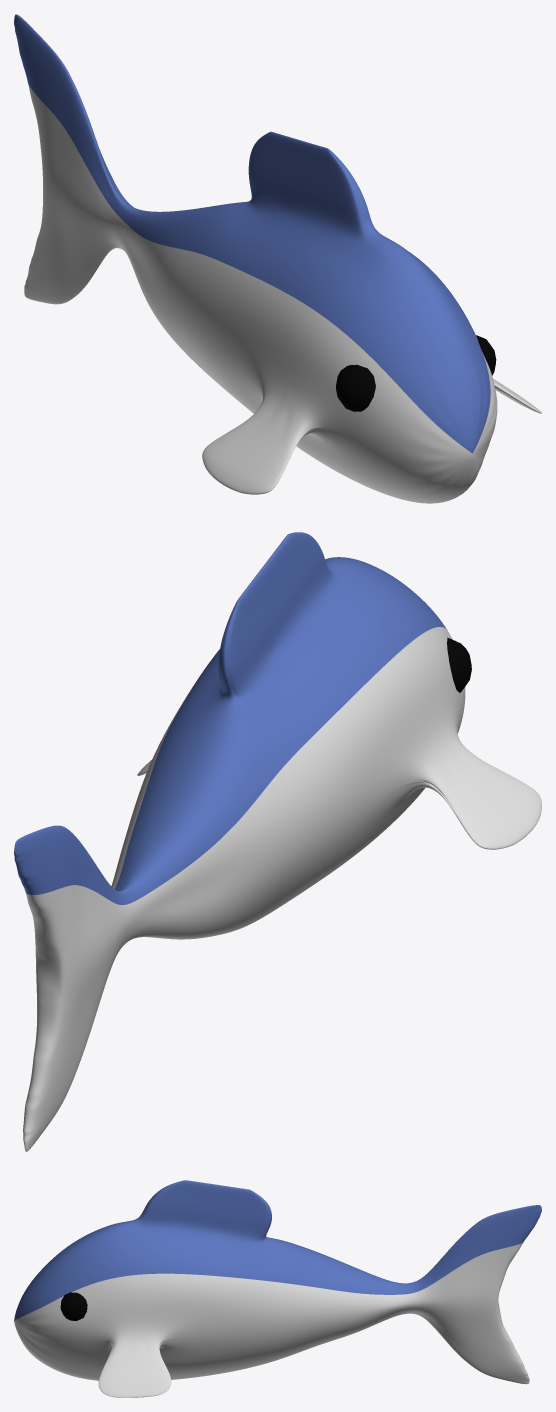
File: fish.fbx
3 views of the same model, one above another, from view 1: azimuth 30°, elevation 25°; view 2: azimuth 150°, elevation 25°; view 3: azimuth 270°, elevation 25° (orthographic). The views are drawn at different scales.
Parts seen in each view (by area): view 1: fish low poly; view 2: fish low poly; view 3: fish low poly.
Part boxes in pixels (box(x1,y1,x2,y2)): fish low poly: box(14, 14, 541, 503); fish low poly: box(14, 532, 541, 1151); fish low poly: box(14, 1180, 541, 1397).
Size of the model in its own units: 40.57 by 41.41 by 91.86.
